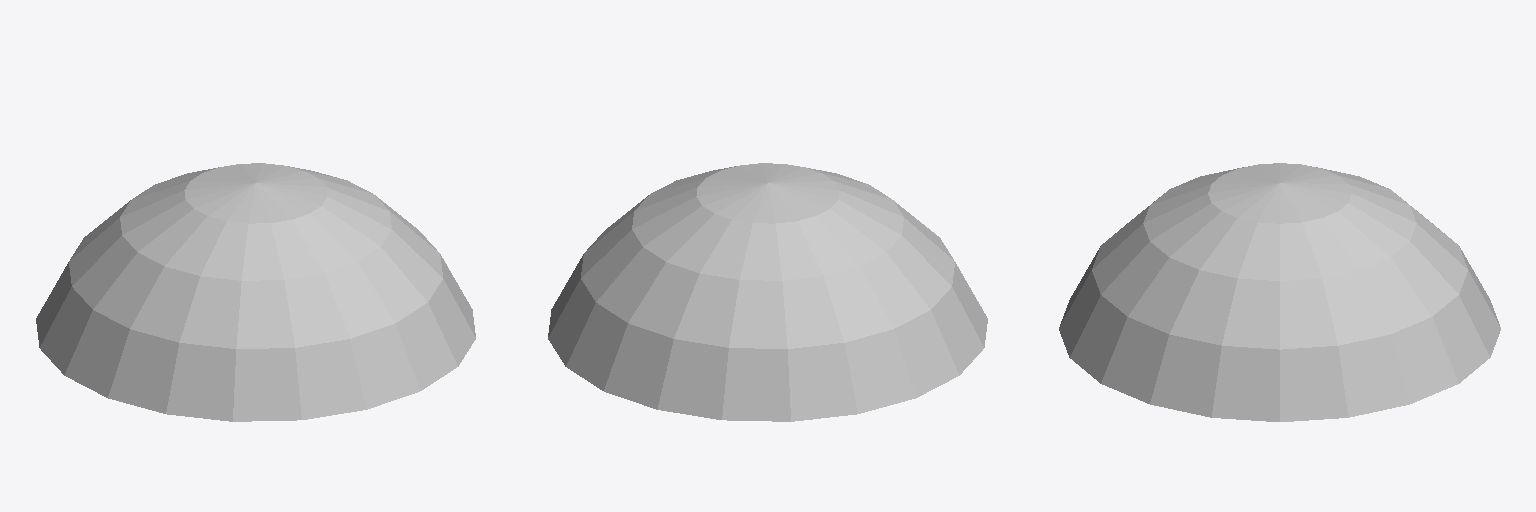
The model's file is dome.obj.
The picture shows the model from 3 angles: view 1: azimuth 30°, elevation 25°; view 2: azimuth 150°, elevation 25°; view 3: azimuth 270°, elevation 25°; orthographic projection.
Parts seen in each view (by area): view 1: 5w028dwt8rxa; view 2: 5w028dwt8rxa; view 3: 5w028dwt8rxa.
Part boxes in pixels (left/top/right/bottom): 5w028dwt8rxa: left=36, top=163, right=475, bottom=421; 5w028dwt8rxa: left=548, top=163, right=987, bottom=421; 5w028dwt8rxa: left=1059, top=163, right=1500, bottom=421.
Bounding box in the file's own units: 554 × 201 × 554.